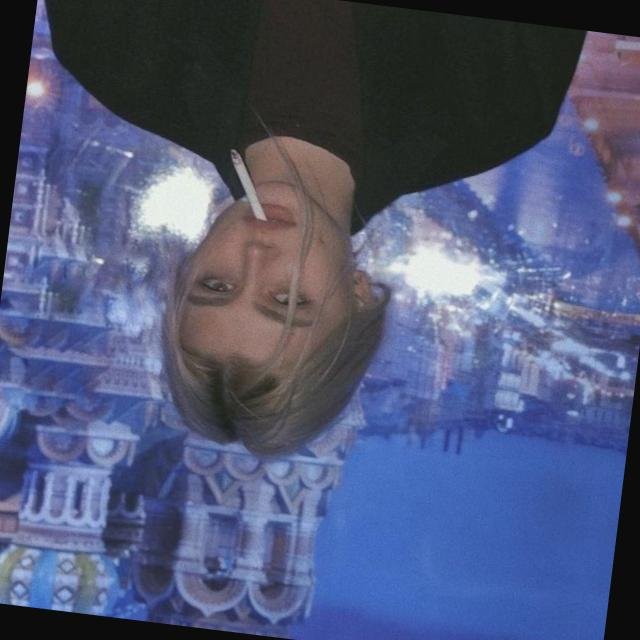smoke: (213, 142, 278, 232)
